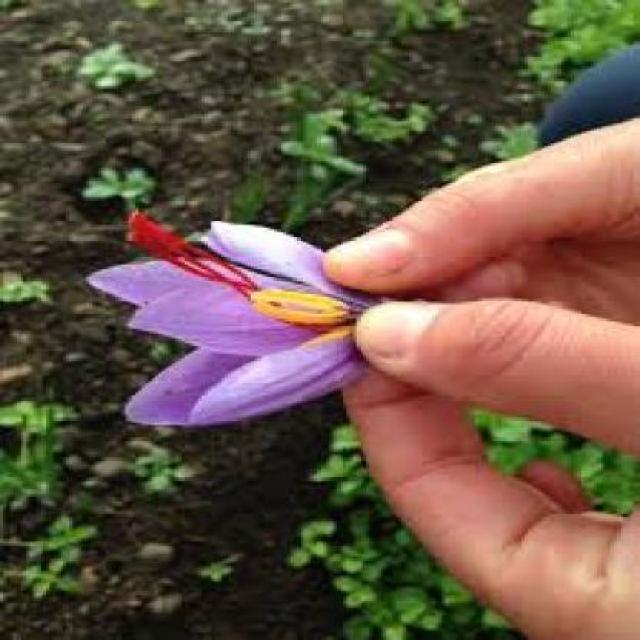Flower: (81, 218, 417, 430)
stigma: (115, 189, 262, 301)
